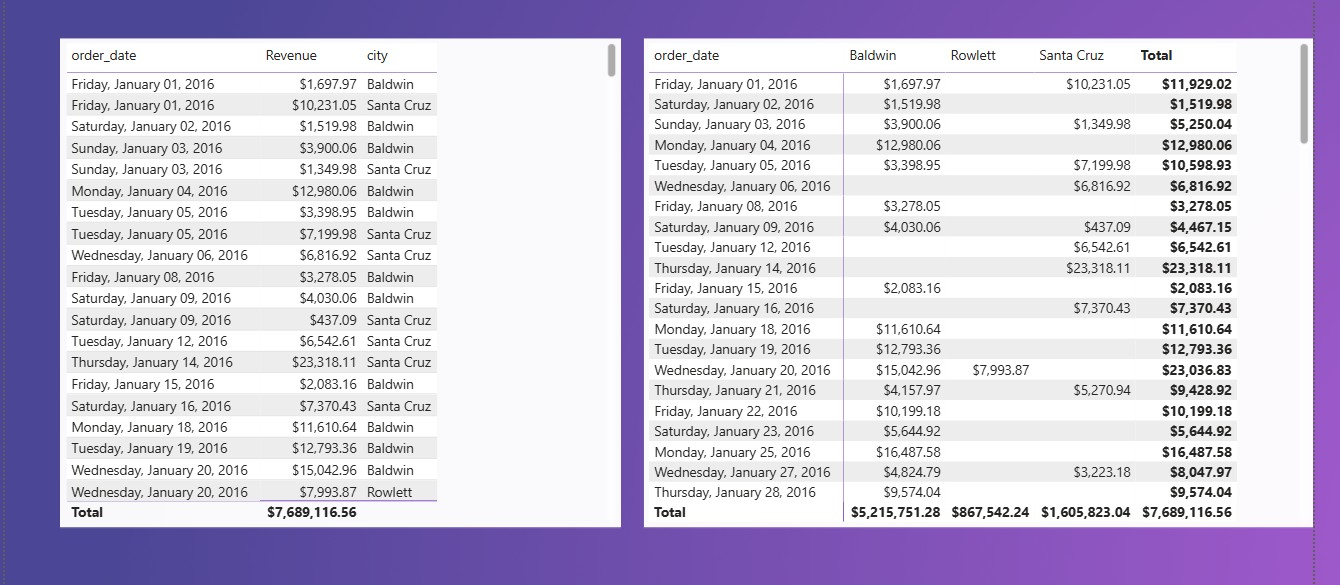

The dashboard page shown, as its layout file describes it:
{"tool":"powerbi","page":{"name":"Page 3","canvas":[1280,720],"ordinal":2},"visuals":[{"type":"tableEx","fields":{"Values":["Orders.order_date","Table.Revenue","Stores.city"]},"box":[53.8,79.5,549.1,478.1],"z":0},{"type":"pivotTable","fields":{"Rows":["Orders.order_date"],"Values":["Table.Revenue"],"Columns":["Stores.city"]},"box":[624.9,79.5,655.4,478.1],"z":1000}]}

Visuals, with their boxes on the page's 1280x720 design canvas (x1, y1, x2, y2). These are canvas units, not pixel positions in the 1340x585 screenshot, which may show the page scaled, cropped or inside an application window:
tableEx - Orders.order_date x Table.Revenue: bbox=[54, 80, 603, 558]
pivotTable - Orders.order_date x Table.Revenue: bbox=[625, 80, 1280, 558]
